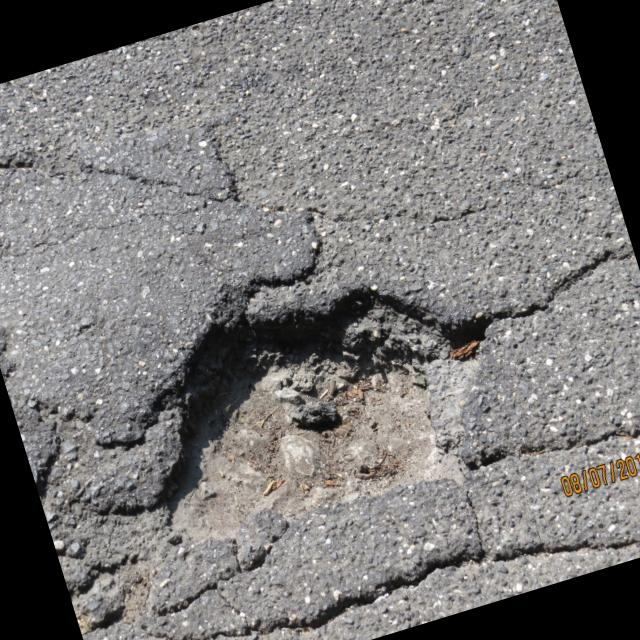Potholes: (109, 212, 549, 610)
